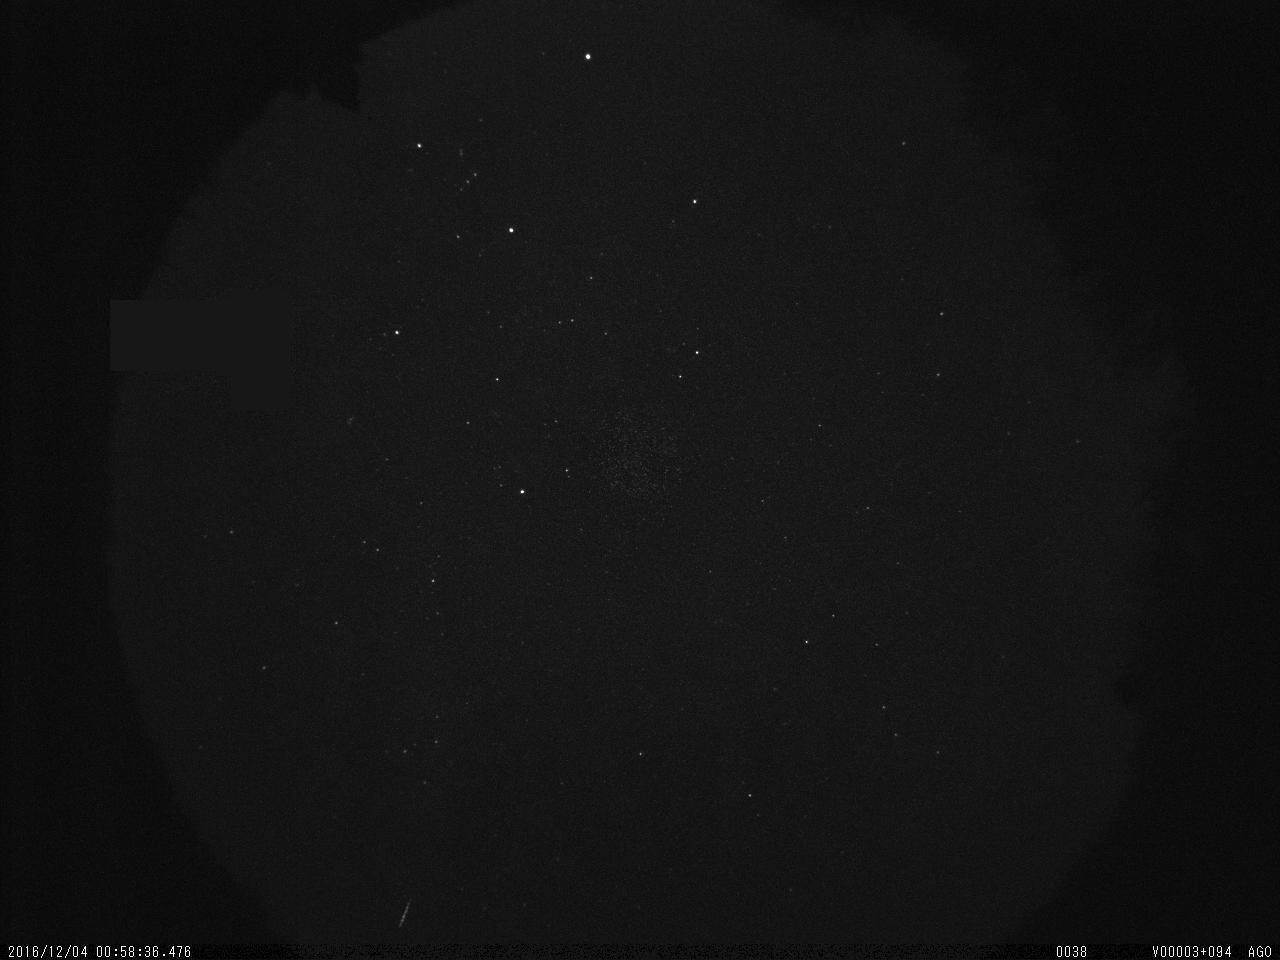meteor: (388, 891, 424, 940)
